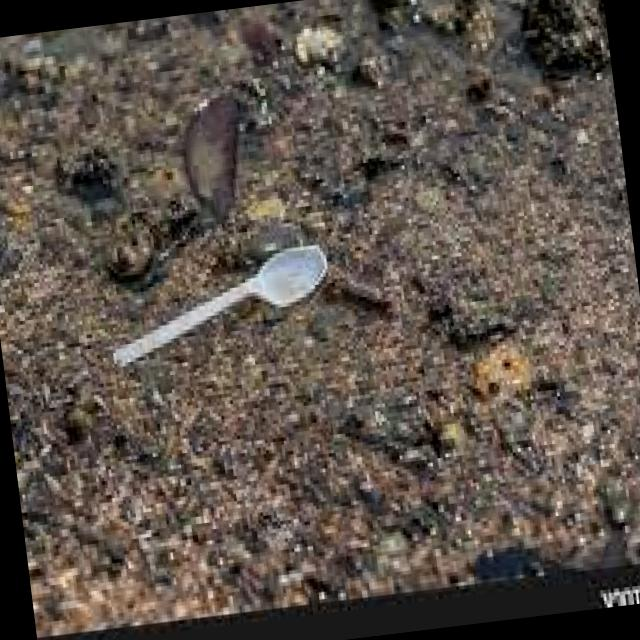nhua: (114, 245, 326, 365)
